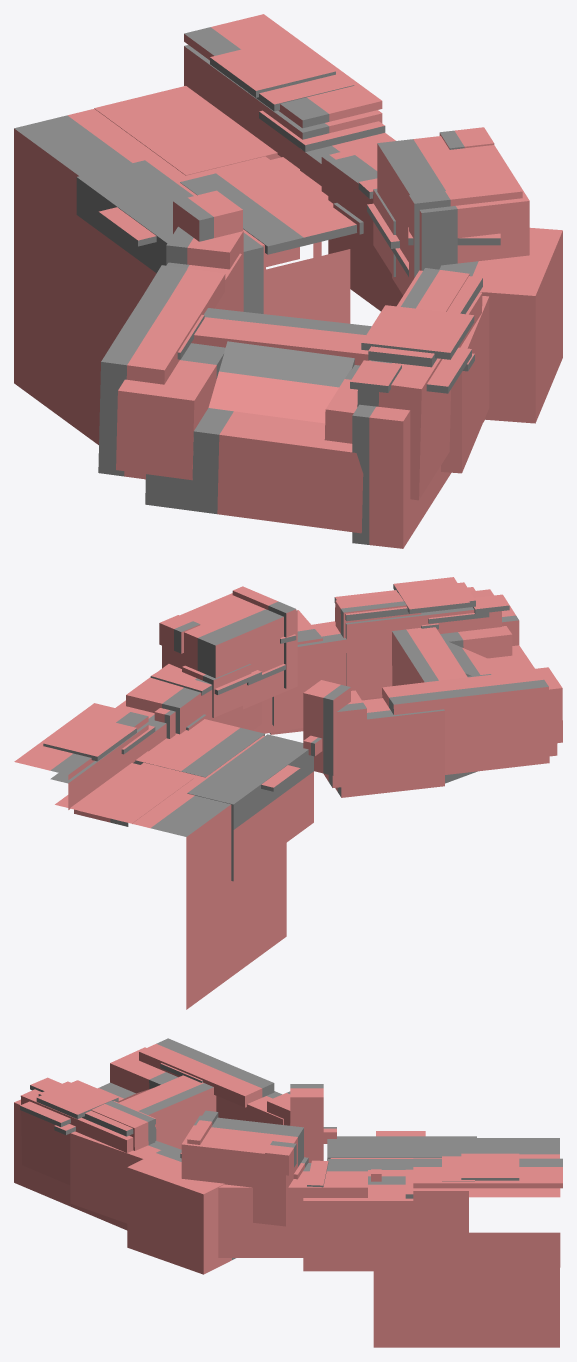
File: S_Envi_Train_Building_Merge_13a.gltf
3 renders of one model, top to bottom at view 1: azimuth 30°, elevation 25°; view 2: azimuth 150°, elevation 25°; view 3: azimuth 270°, elevation 25°, orthographic. The views are drawn at different scales.
Parts seen in each view (by area): view 1: S_Envi_Train_Building_Merge_13a; view 2: S_Envi_Train_Building_Merge_13a; view 3: S_Envi_Train_Building_Merge_13a.
Part boxes in pixels (x1,y1,x2,y2): S_Envi_Train_Building_Merge_13a: [14, 14, 562, 548]; S_Envi_Train_Building_Merge_13a: [14, 577, 562, 1009]; S_Envi_Train_Building_Merge_13a: [14, 1038, 562, 1347].
Bounding box in the file's own units: 16.19 × 11.19 × 24.78.
